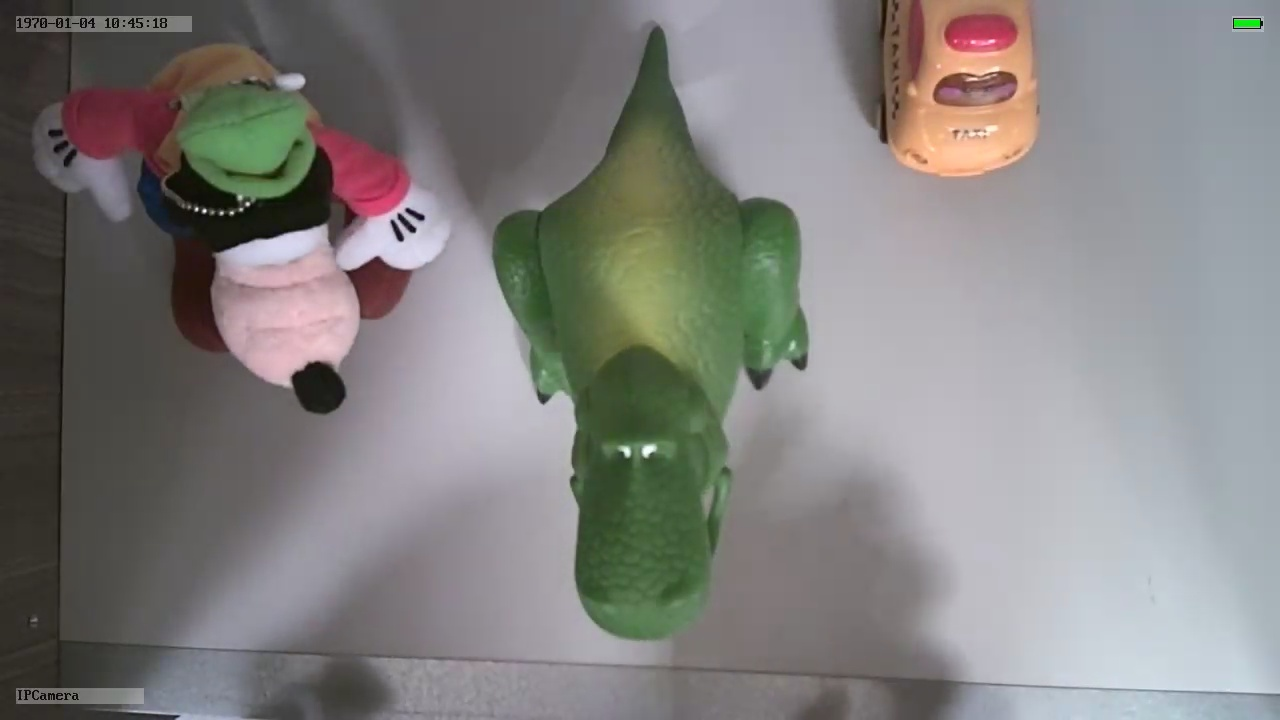goofy: (24, 39, 456, 415)
rex: (492, 108, 809, 642)
